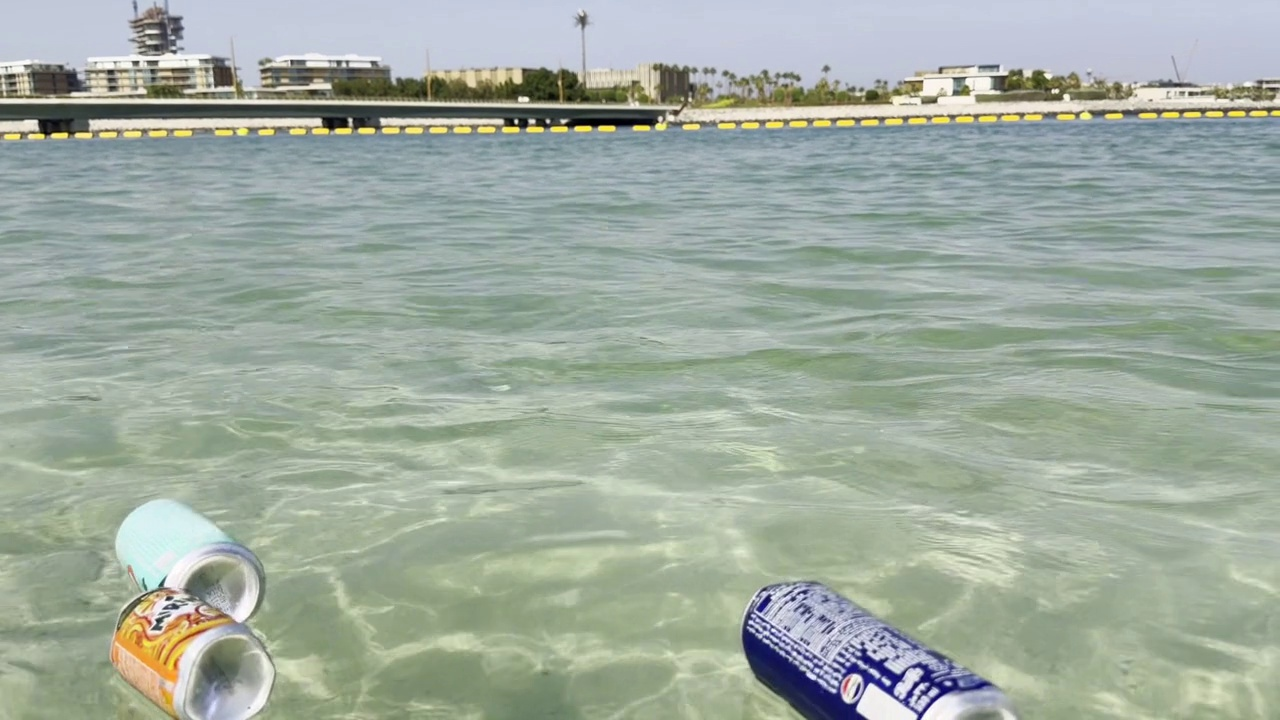debris: (735, 572, 1016, 720), (93, 577, 283, 720), (107, 490, 275, 639)
